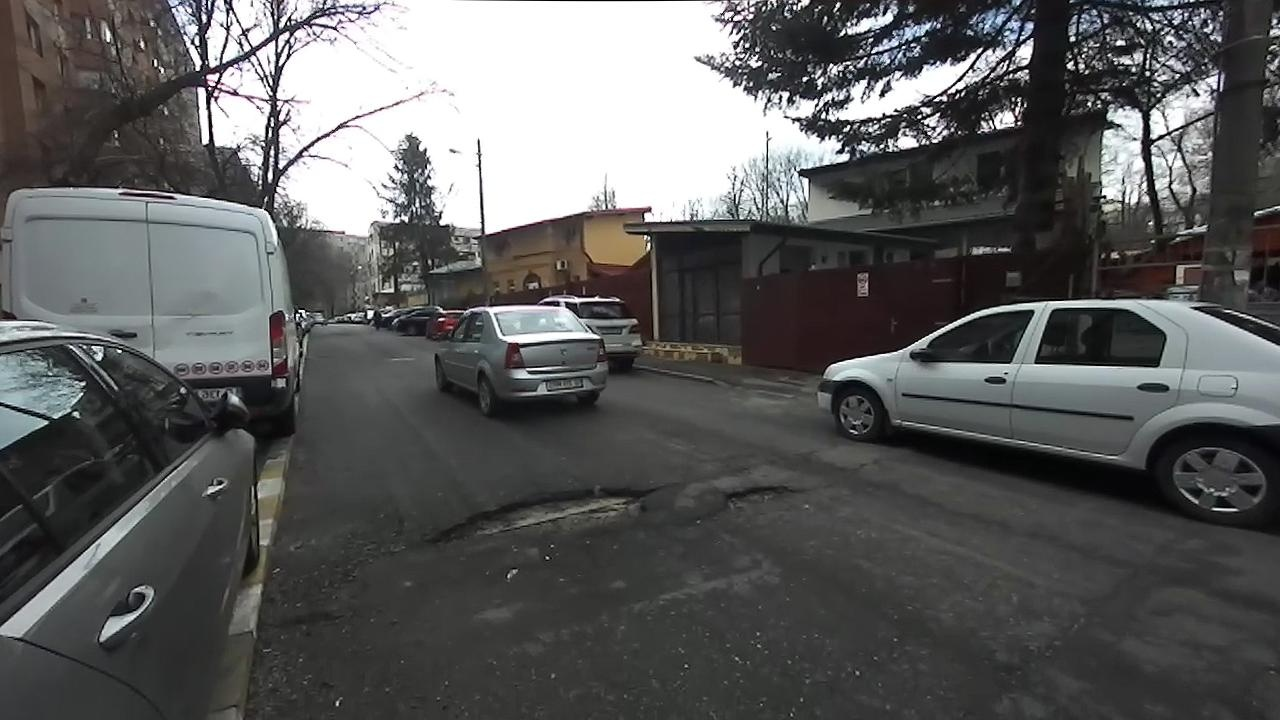pothole: (418, 482, 655, 552), (707, 479, 803, 519)
